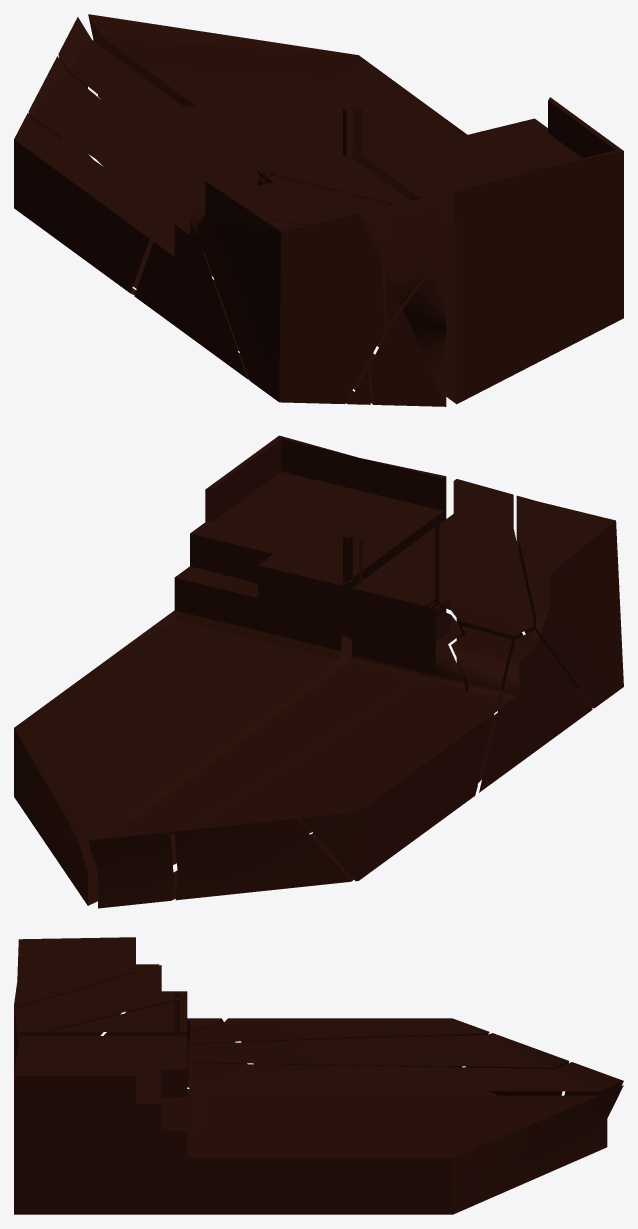
The model's file is boat_split.FBX.
The picture shows the model from 3 angles, top to bottom: view 1: azimuth 30°, elevation 25°; view 2: azimuth 150°, elevation 25°; view 3: azimuth 270°, elevation 25°; orthographic projection. The views are drawn at different scales.
Parts seen in each view (by area): view 1: Object001, ship, fragname004, fragname002, fragname006, fragname005, fragname001, fragname007; view 2: Object001, ship, fragname002, fragname006, fragname004, fragname007, fragname005, fragname001; view 3: Object001, ship, fragname002, fragname001, fragname007, fragname006, fragname004.
Part boxes in pixels (<box>): Object001: <box>88,14,623,404</box>; ship: <box>14,17,446,406</box>; fragname004: <box>191,181,383,403</box>; fragname002: <box>58,17,446,406</box>; fragname006: <box>28,56,369,404</box>; fragname005: <box>134,215,246,377</box>; fragname001: <box>193,175,446,324</box>; fragname007: <box>24,114,198,287</box>; Object001: <box>14,435,446,905</box>; ship: <box>88,479,622,908</box>; fragname002: <box>102,530,523,907</box>; fragname006: <box>175,603,497,896</box>; fragname004: <box>517,496,623,708</box>; fragname007: <box>302,625,511,880</box>; fragname005: <box>479,630,592,792</box>; fragname001: <box>439,481,533,635</box>; Object001: <box>14,997,623,1214</box>; ship: <box>14,937,586,1095</box>; fragname002: <box>50,1013,623,1095</box>; fragname001: <box>14,965,174,1031</box>; fragname007: <box>187,1018,489,1067</box>; fragname006: <box>180,1000,568,1095</box>; fragname004: <box>17,937,156,1008</box>.
Bounding box in the file's own units: 518 × 323 × 959.
